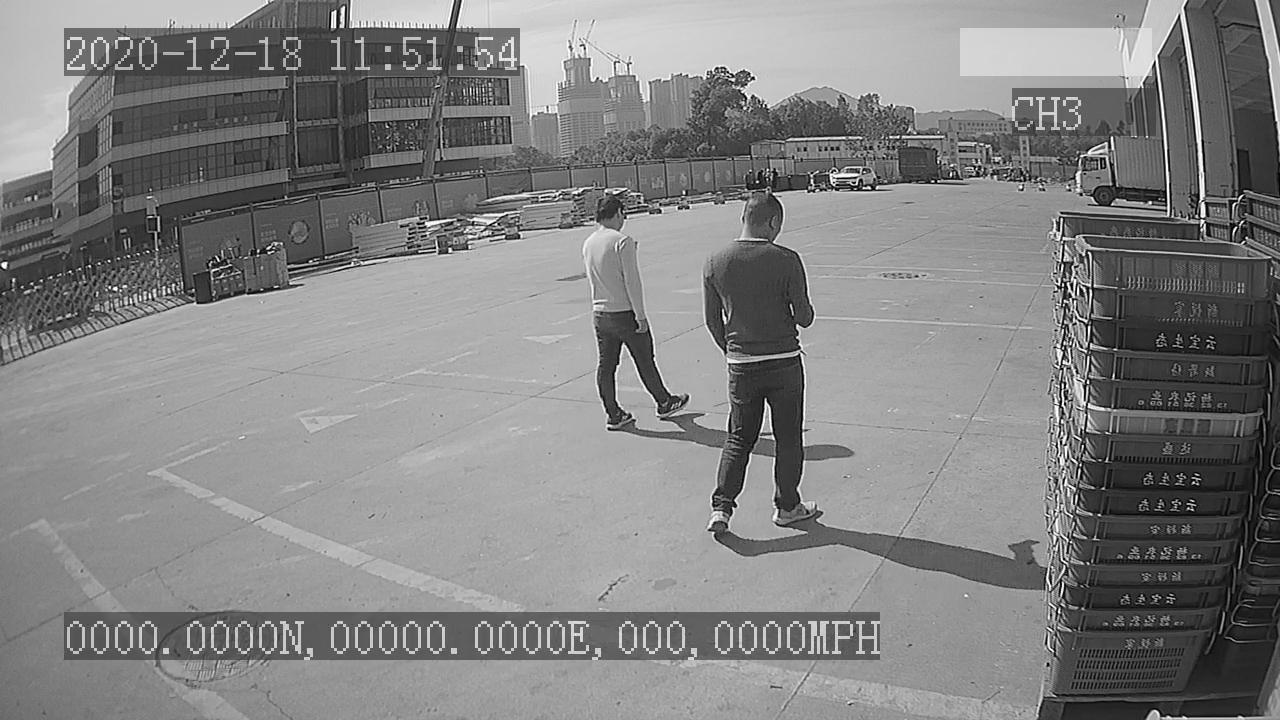person: (693, 183, 831, 542), (576, 186, 695, 440)
